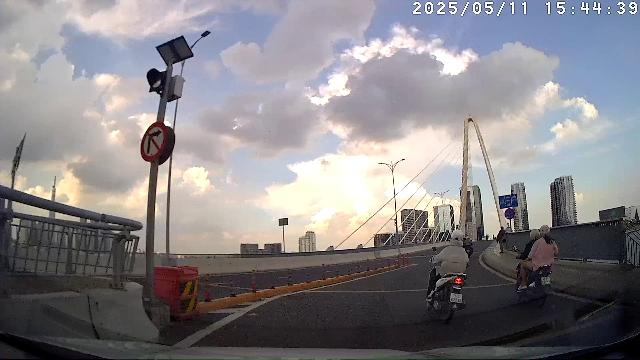123b-cam-re-phai: (138, 123, 168, 161)
